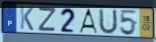2: (59, 6, 77, 34)
5: (119, 8, 139, 36)
A: (78, 8, 99, 35)
K: (19, 6, 34, 32)
U: (98, 8, 119, 36)
Z: (37, 7, 57, 33)
